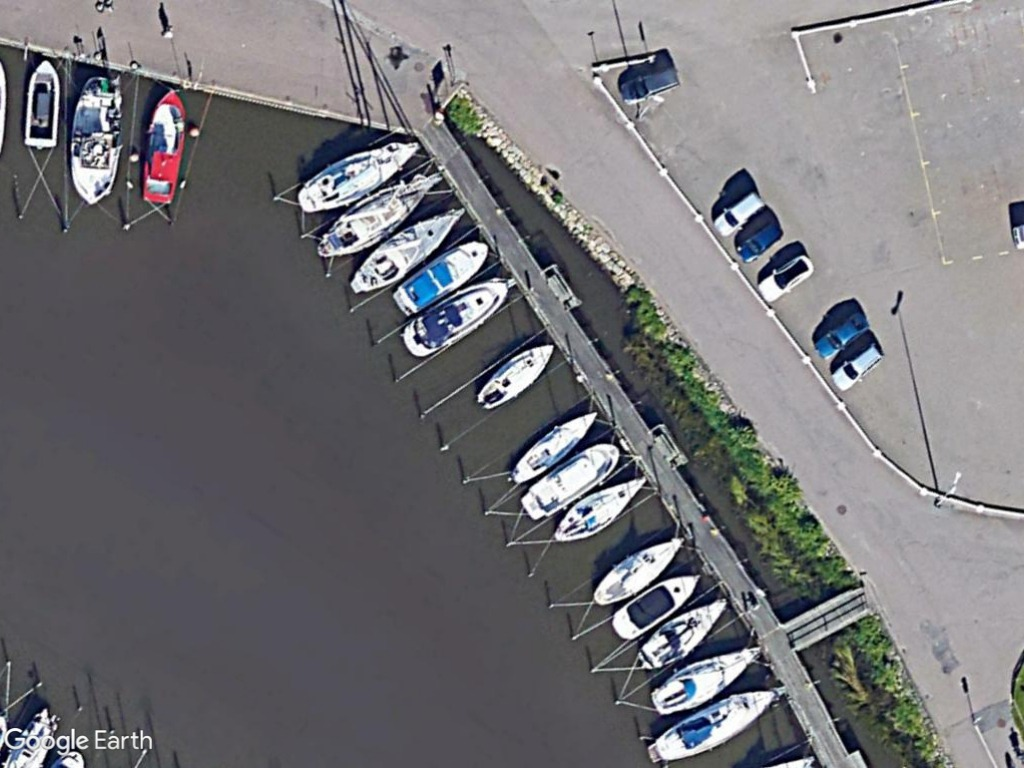boat: (307, 167, 446, 265), (346, 197, 468, 303), (644, 685, 785, 768), (294, 133, 421, 217), (398, 270, 516, 360), (646, 638, 762, 719), (518, 436, 623, 525), (390, 233, 492, 319), (502, 402, 600, 489), (631, 590, 729, 675), (65, 75, 124, 212), (589, 529, 688, 610), (546, 472, 650, 549), (605, 568, 704, 645), (137, 83, 189, 209), (473, 339, 560, 412), (20, 55, 61, 152)
car: (751, 249, 816, 306), (810, 310, 872, 364), (826, 337, 885, 392), (731, 213, 784, 262)
van: (706, 189, 768, 240), (614, 66, 685, 108)
